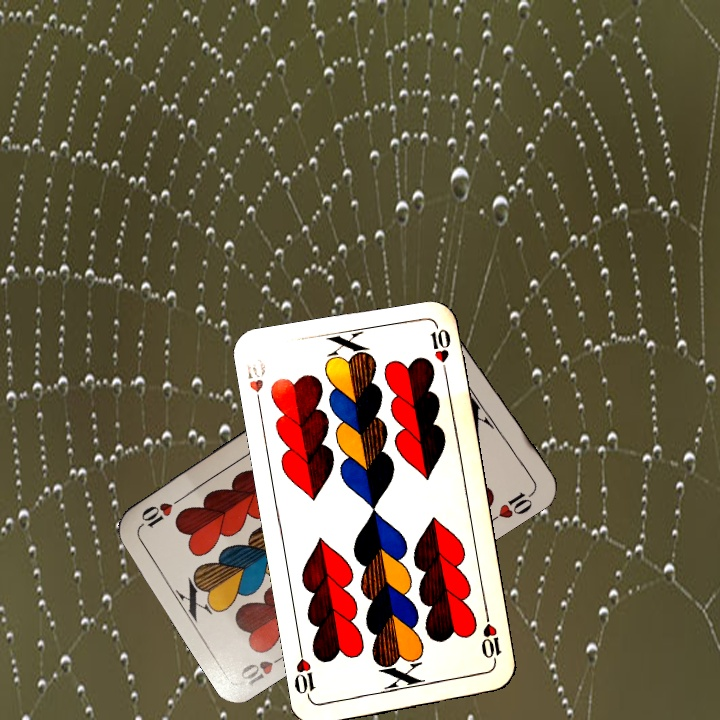H10: (236, 648, 292, 688), (477, 609, 504, 668), (242, 354, 269, 413)
